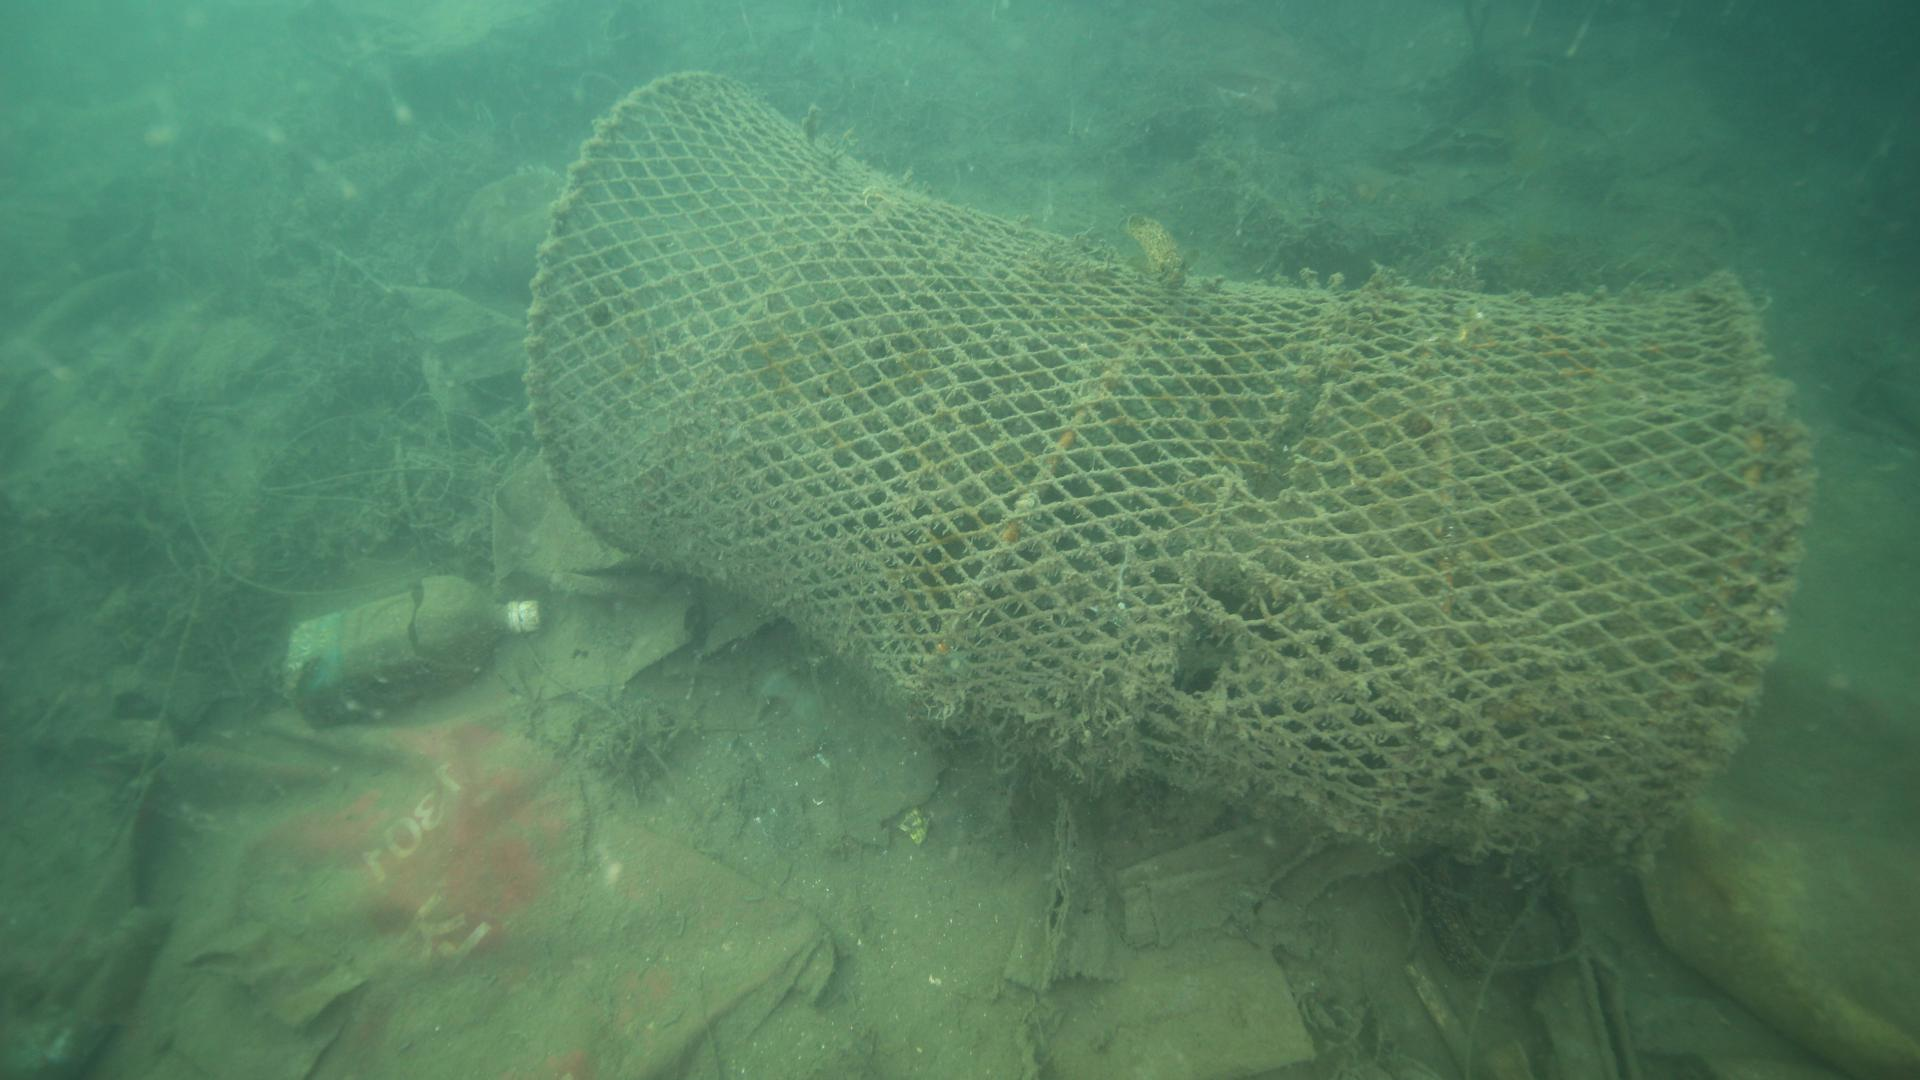spring fish trap: (520, 63, 1813, 887)
